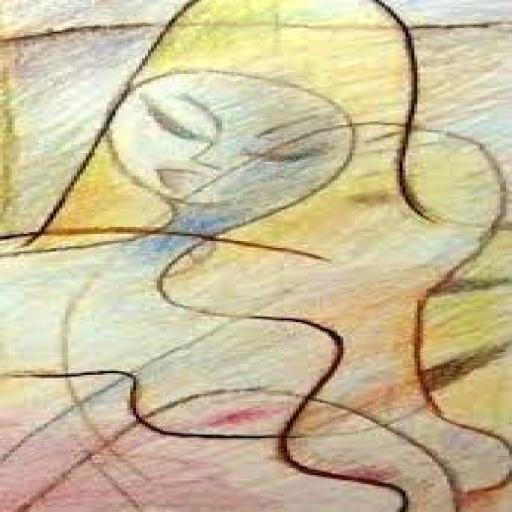person: (400, 145, 405, 151)
